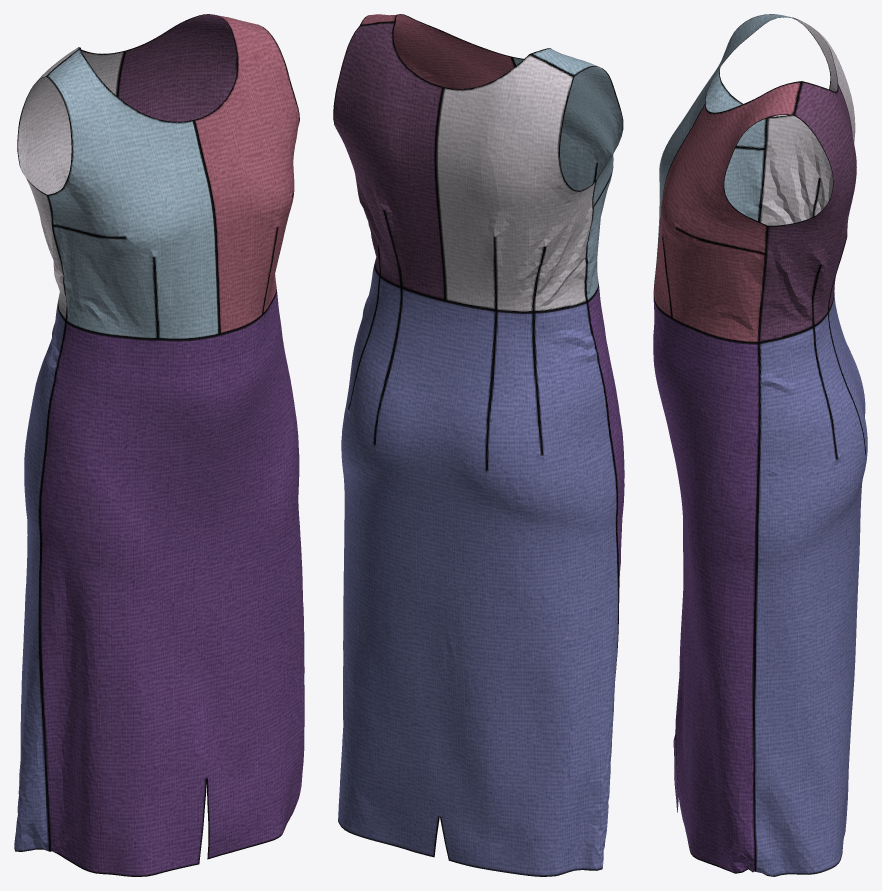
File: valid_garment_wholebody_sim.obj
The picture shows the model from 3 angles, left to right: view 1: azimuth 30°, elevation 25°; view 2: azimuth 150°, elevation 25°; view 3: azimuth 270°, elevation 25°; orthographic projection. The views are drawn at different scales.
Size of the model in its own units: 40.53 by 116 by 29.37.
Materials: 1 (1 with a texture image).
